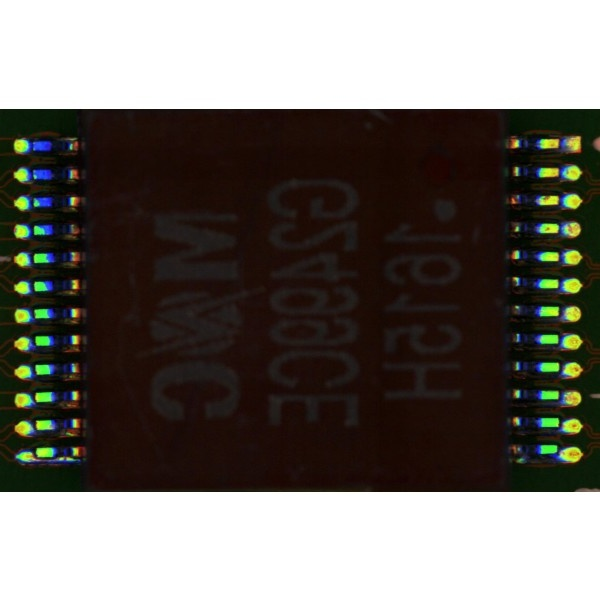Bad_qiaojiao: (40, 457, 81, 462)
